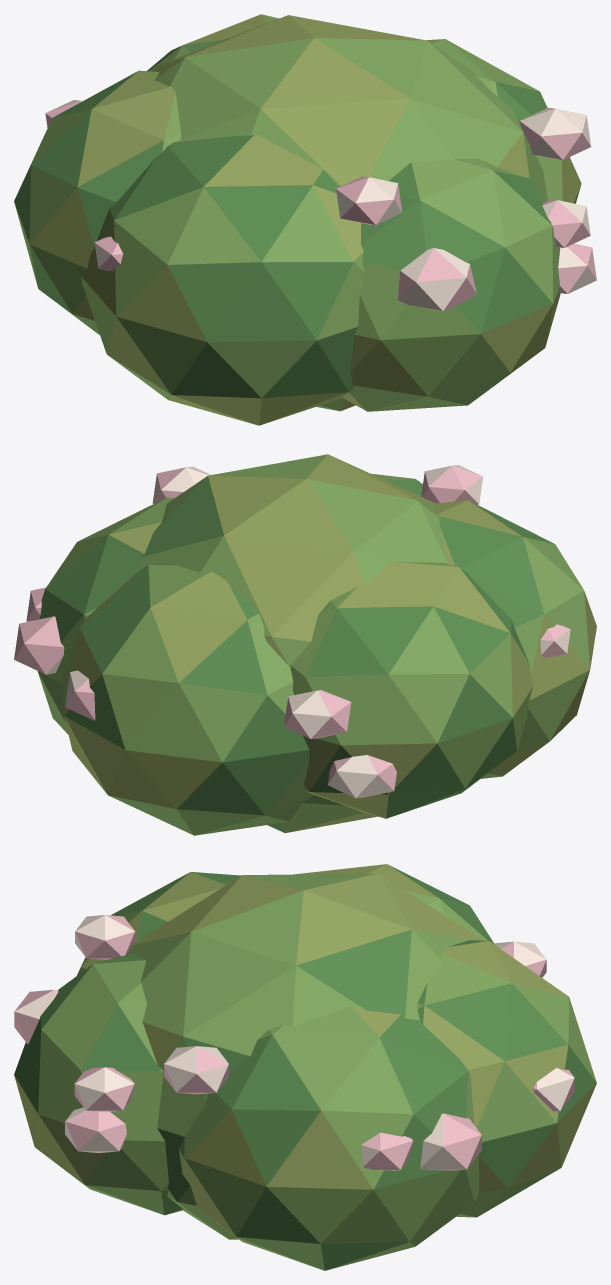
Rendered from bush_flower.glb.
3 views of the same model, one above another, from view 1: azimuth 30°, elevation 25°; view 2: azimuth 150°, elevation 25°; view 3: azimuth 270°, elevation 25° (orthographic). The views are drawn at different scales.
Visible parts, largest first — view 1: bush_flower; view 2: bush_flower; view 3: bush_flower.
Boxes of the visible parts, x1=… form: bush_flower: x1=14, y1=14, x2=596, y2=425; bush_flower: x1=14, y1=454, x2=596, y2=835; bush_flower: x1=14, y1=864, x2=596, y2=1270.
Size of the model in its own units: 1.34 by 0.8856 by 1.41.
